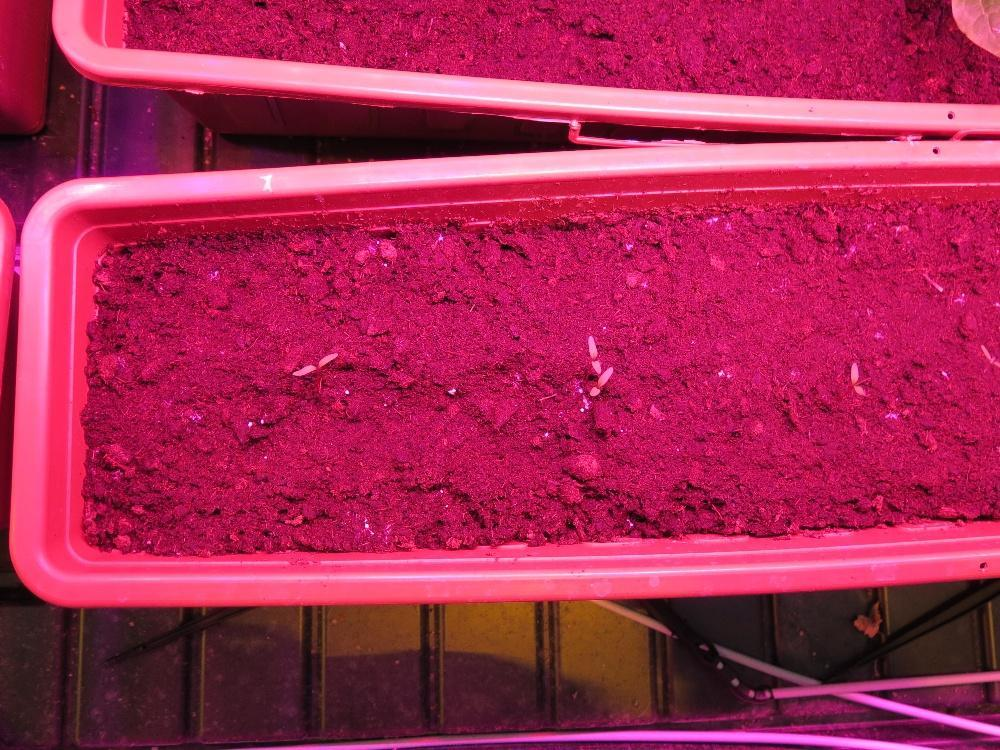crop: (289, 350, 338, 376), (585, 334, 601, 374), (849, 360, 864, 397)
